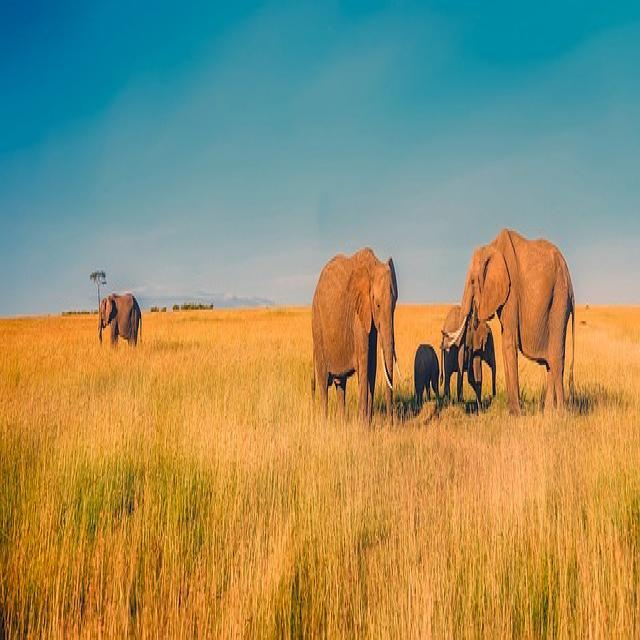elephant: (449, 228, 575, 413), (312, 248, 398, 422), (442, 306, 496, 406), (99, 295, 141, 345), (414, 344, 440, 412)
